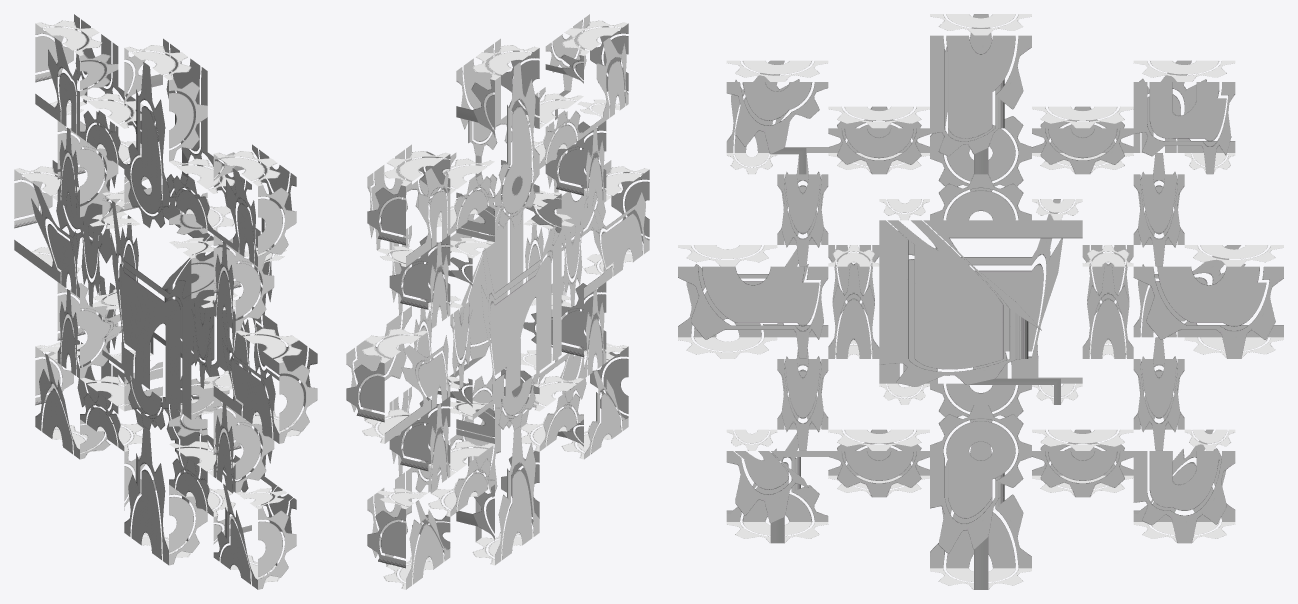
The model's file is vfx_gear_01.fbx.
3 views of the same model, side by side, from view 1: azimuth 30°, elevation 25°; view 2: azimuth 150°, elevation 25°; view 3: azimuth 270°, elevation 25° (orthographic). The views are drawn at different scales.
Visible parts, largest first — view 1: vfx_gear_03:model_vfx_gear_01_obj; view 2: vfx_gear_03:model_vfx_gear_01_obj; view 3: vfx_gear_03:model_vfx_gear_01_obj.
Boxes of the visible parts, bbox=[...] form: vfx_gear_03:model_vfx_gear_01_obj: bbox=[14, 14, 317, 589]; vfx_gear_03:model_vfx_gear_01_obj: bbox=[346, 14, 649, 589]; vfx_gear_03:model_vfx_gear_01_obj: bbox=[678, 14, 1283, 589].
Bounding box in the file's own units: 1 × 12.02 × 11.9.
